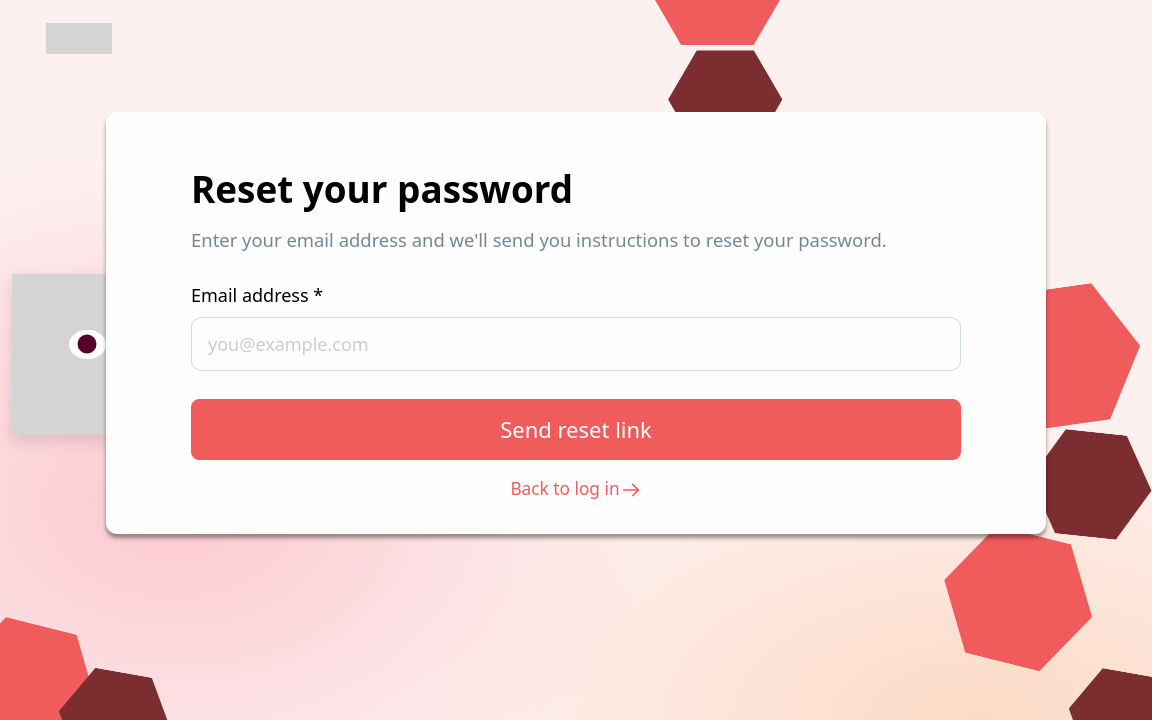
Scenario: ResetPassword page › displays rate limit error message when API returns 429 status
Step 1. Type "applicant@uwaterloo.ca" into the field labelled "Email address *" → (576, 344), box [191, 317, 961, 371]
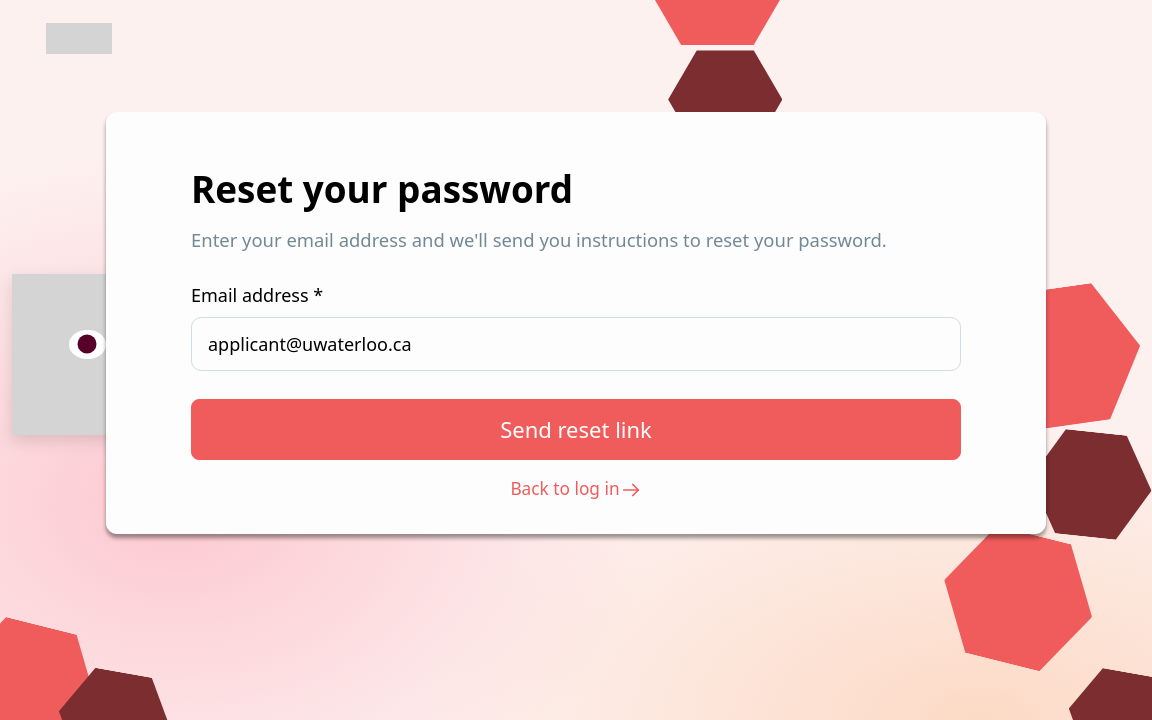
Step 2. Click the button "Send reset link" → (576, 430), box [191, 399, 961, 460]
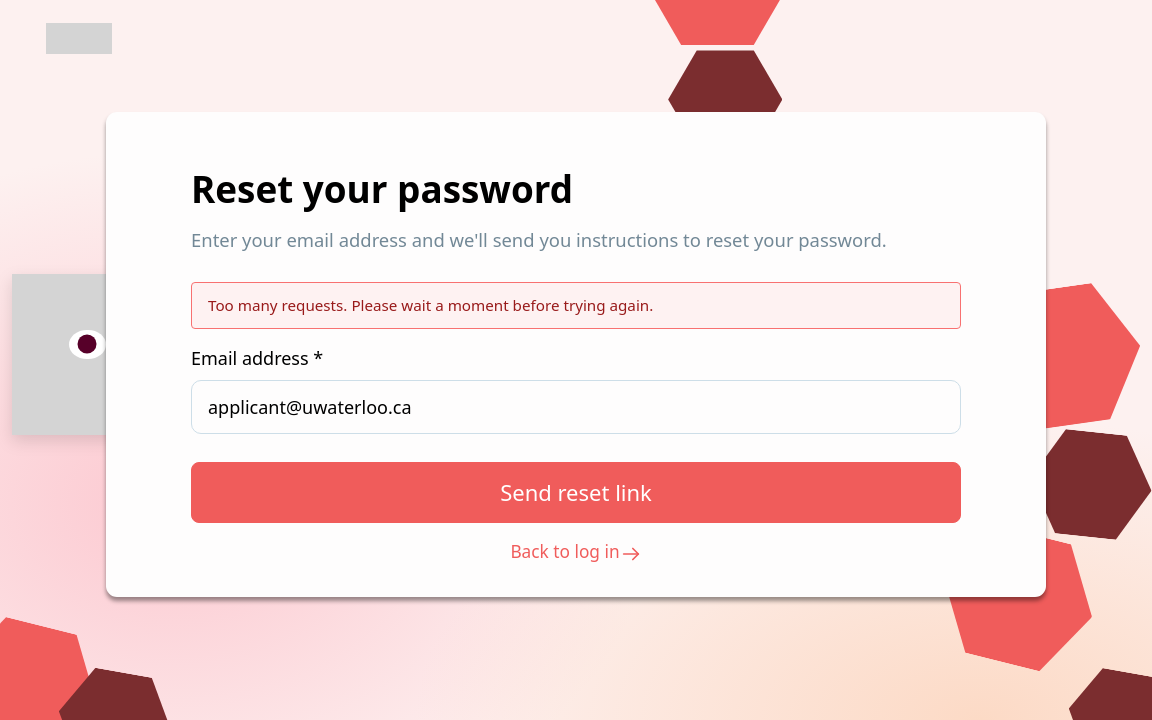
Expected: the message "Too many requests. Please wait a moment before trying again." is shown, [191, 282, 961, 329]
